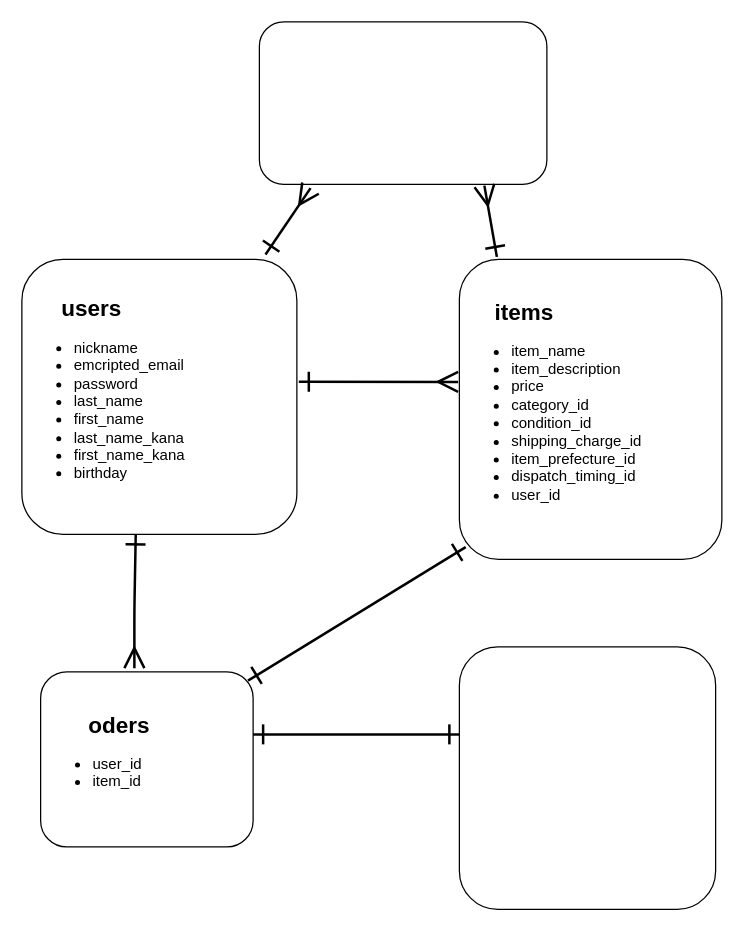
Some shapes in this 744 by 931 pixel diagram are drawn without their labels. The shapes that lost their labels are listed below. From the top down, each one's centre as x and y in pixels, then its label:
At point 402,102: "comments text user_id item_id".
At point 587,777: "addresses zip prefecture_id city address building phone_no order_id".
